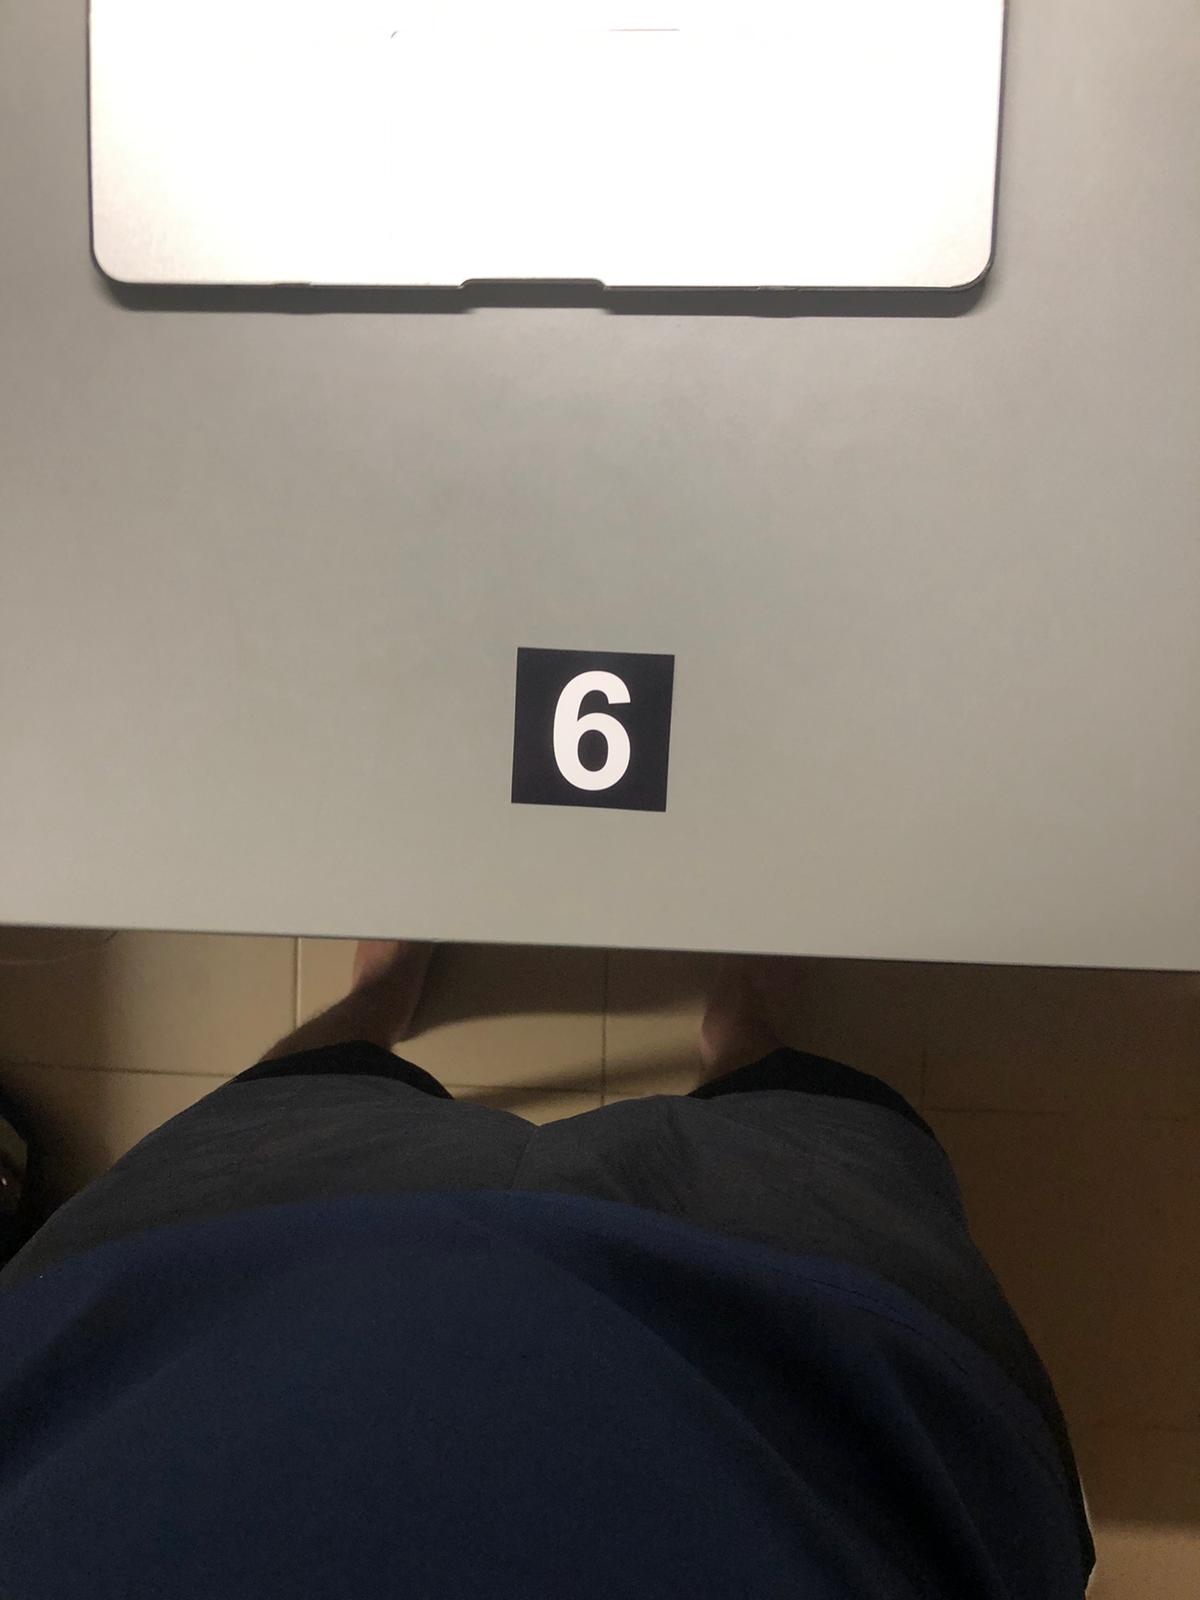Number 6: (508, 643, 673, 813)
